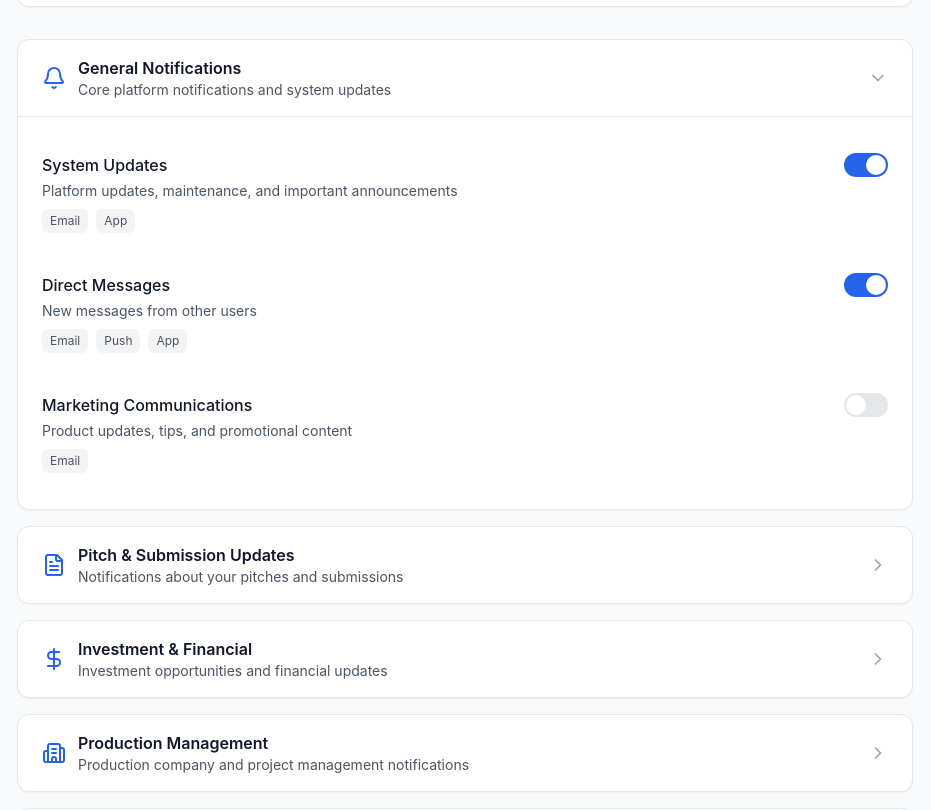
NotificationPreferences › Notification categories › toggling a preference within a category marks changes as unsaved
(page scrolled)
Expected: the heading "System Updates" is shown, [42, 153, 167, 177]
Note: marketing emails (false by default) is the 8th checkbox (index 7)
Click the checkbox in the row of "Marketing Communications" at (866, 405), box [844, 393, 888, 417]
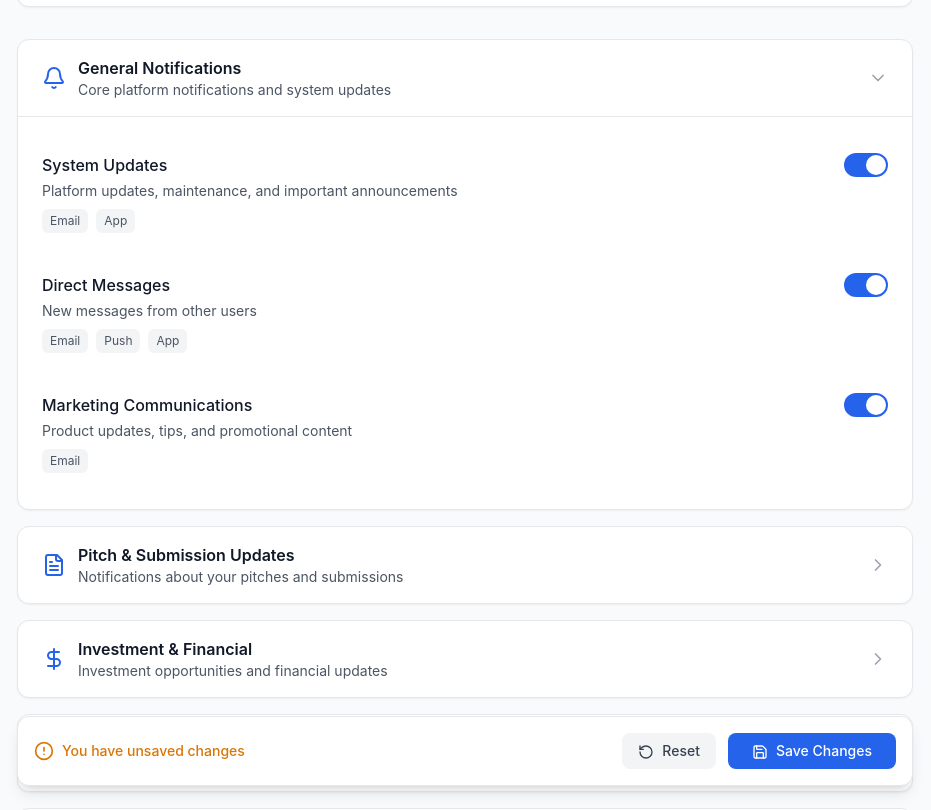
Expected: the text "You have unsaved changes" is shown, [62, 741, 245, 761]
